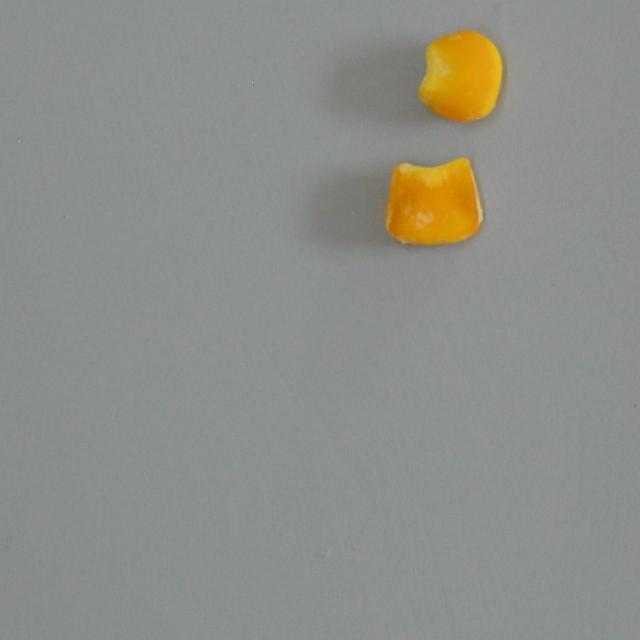no_canjicado: (398, 20, 520, 130)
pelicula: (376, 150, 501, 251)
